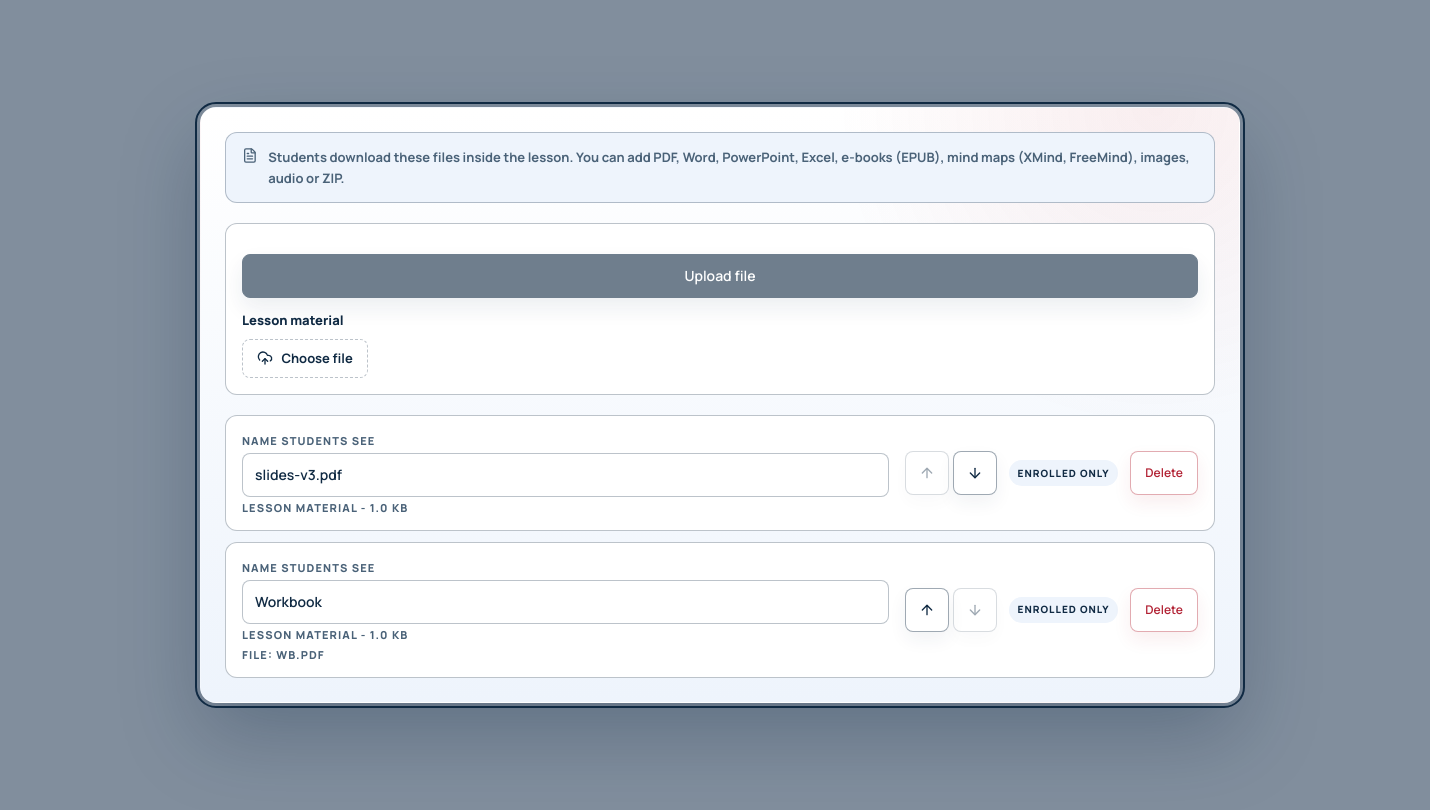
Test: nome e ordem dos materiais › o professor renomeia o arquivo; o nome original continua visível
The image size is (1440, 810).
expect the text "File: wb.pdf" is shown: met, box [242,647,325,662]
Replace the text in the 1st field labelled "Name students see" with "  Slides  " at (565, 475), box [242,453,889,497]
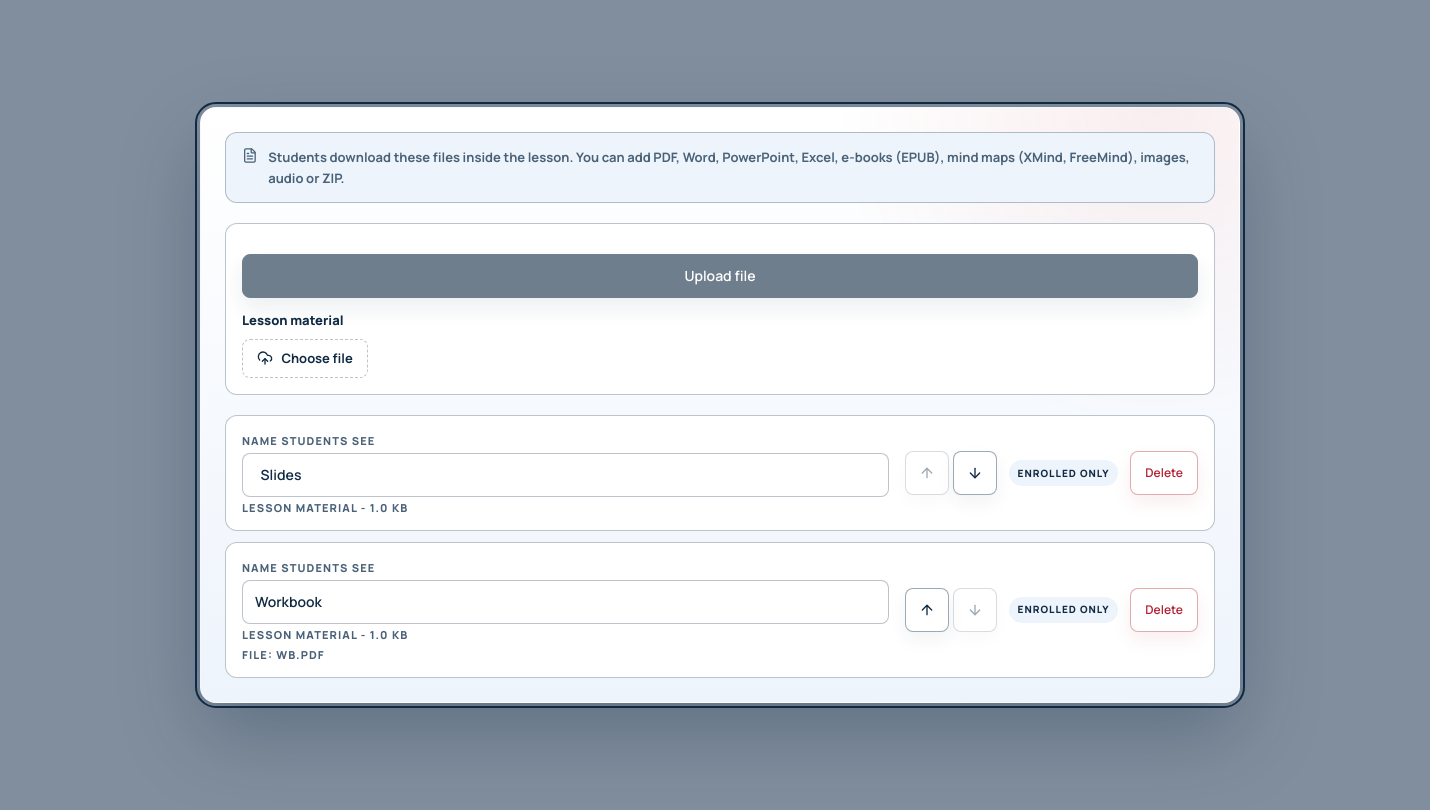
Leave the 1st field labelled "Name students see", box [242,453,889,497]
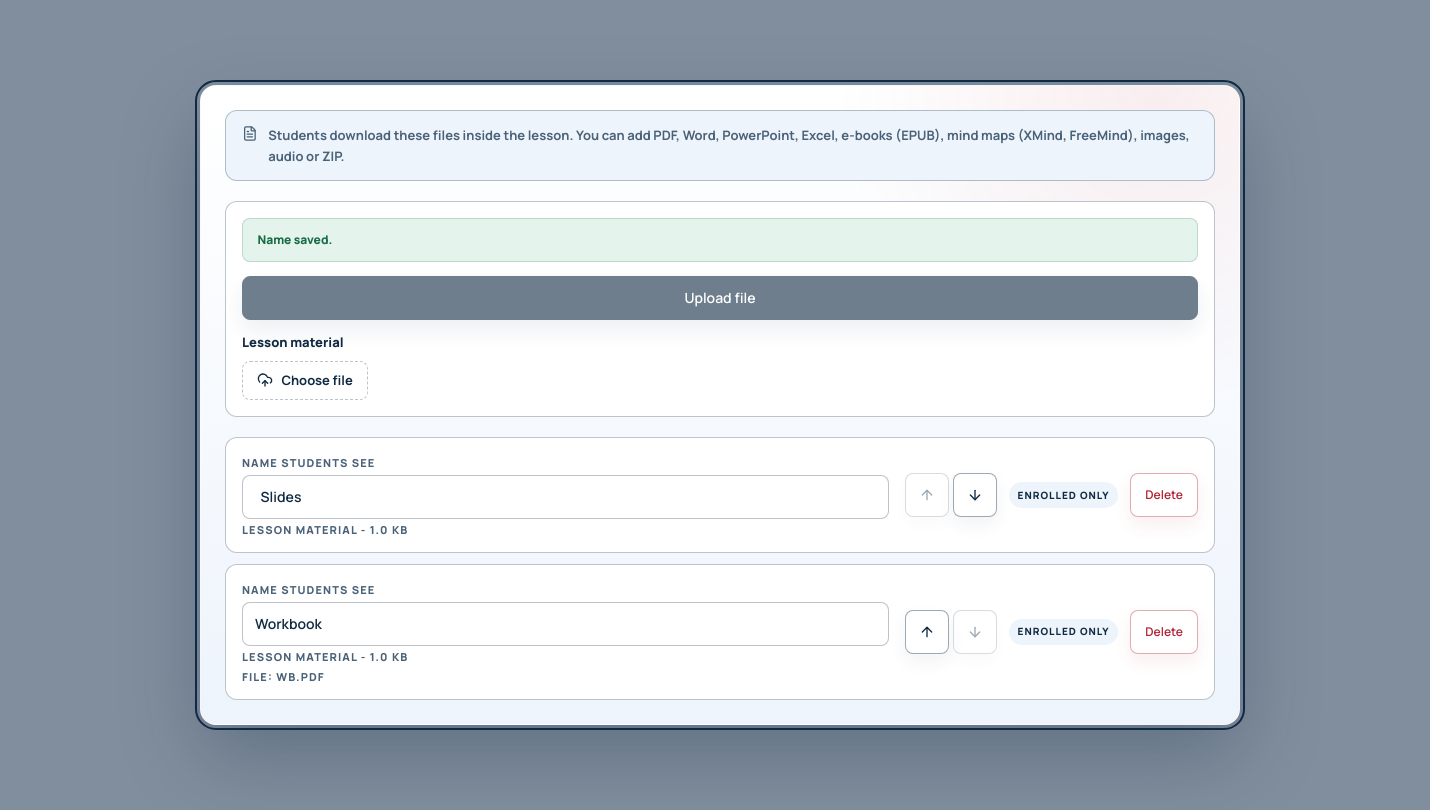
expect the text "Name saved." is shown: met, box [242,218,1198,262]
